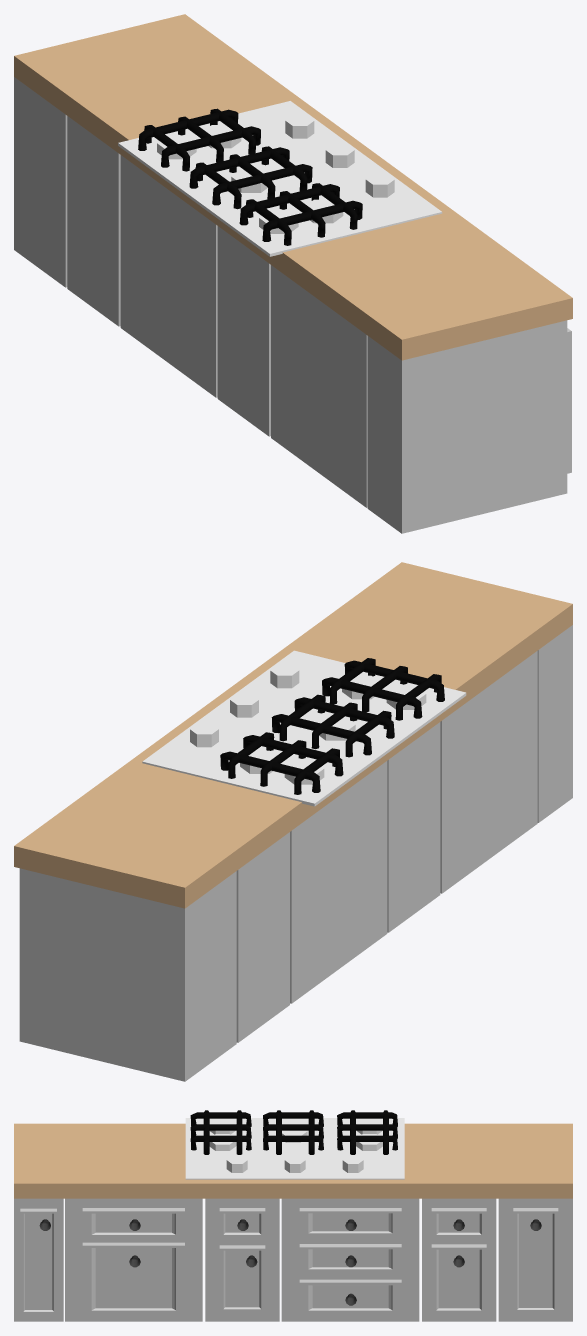
Rendered from Kitchen_Counter.fbx.
3 views of the same model, one above another, from view 1: azimuth 30°, elevation 25°; view 2: azimuth 150°, elevation 25°; view 3: azimuth 270°, elevation 25° (orthographic). The views are drawn at different scales.
Parts seen in each view (by area): view 1: Cube.012, Cylinder.004; view 2: Cube.012, Cylinder.004; view 3: Cube.012, Cylinder.004.
Part boxes in pixels (x1=…): Cube.012: x1=14, y1=14, x2=572, y2=533; Cylinder.004: x1=118, y1=101, x2=442, y2=256; Cube.012: x1=14, y1=562, x2=572, y2=1081; Cylinder.004: x1=142, y1=650, x2=466, y2=806; Cube.012: x1=14, y1=1123, x2=572, y2=1321; Cylinder.004: x1=185, y1=1110, x2=404, y2=1179.
Bounding box in the file's own units: 100 × 104 × 343.
